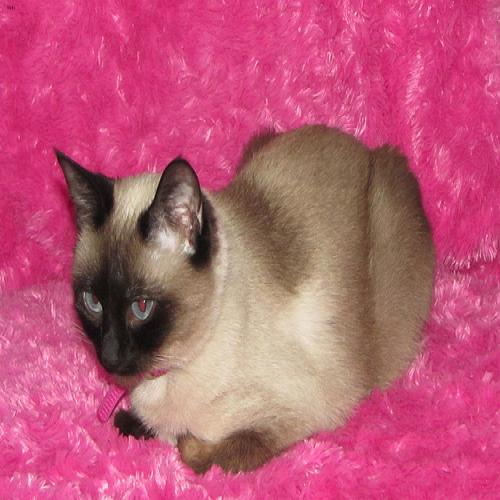siamese: (43, 132, 228, 388)
